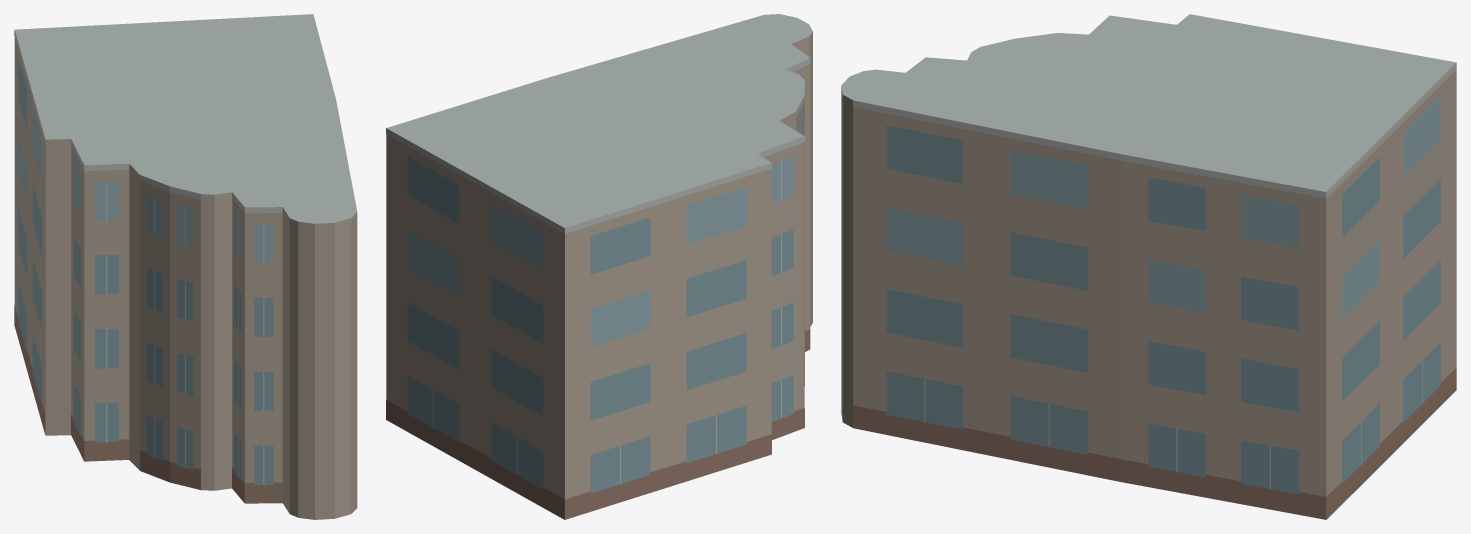
The model's file is survey-upis-32779591.glb.
3 views of the same model, side by side, from view 1: azimuth 30°, elevation 25°; view 2: azimuth 150°, elevation 25°; view 3: azimuth 270°, elevation 25° (orthographic). The views are drawn at different scales.
Parts seen in each view (by area): view 1: survey-upis-32779591.tmp; view 2: survey-upis-32779591.tmp; view 3: survey-upis-32779591.tmp.
Boxes of the visible parts, x1=… form: survey-upis-32779591.tmp: x1=14, y1=14, x2=357, y2=519; survey-upis-32779591.tmp: x1=386, y1=14, x2=812, y2=519; survey-upis-32779591.tmp: x1=841, y1=14, x2=1456, y2=519.
Size of the model in its own units: 14.22 by 12.2 by 20.76.
